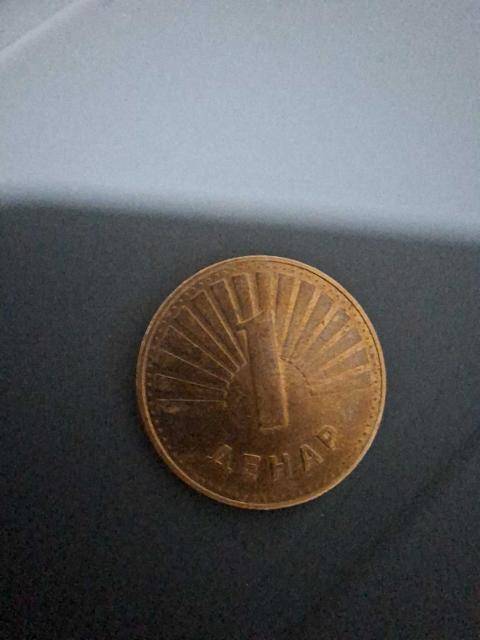1_coin: (137, 256, 385, 509)
